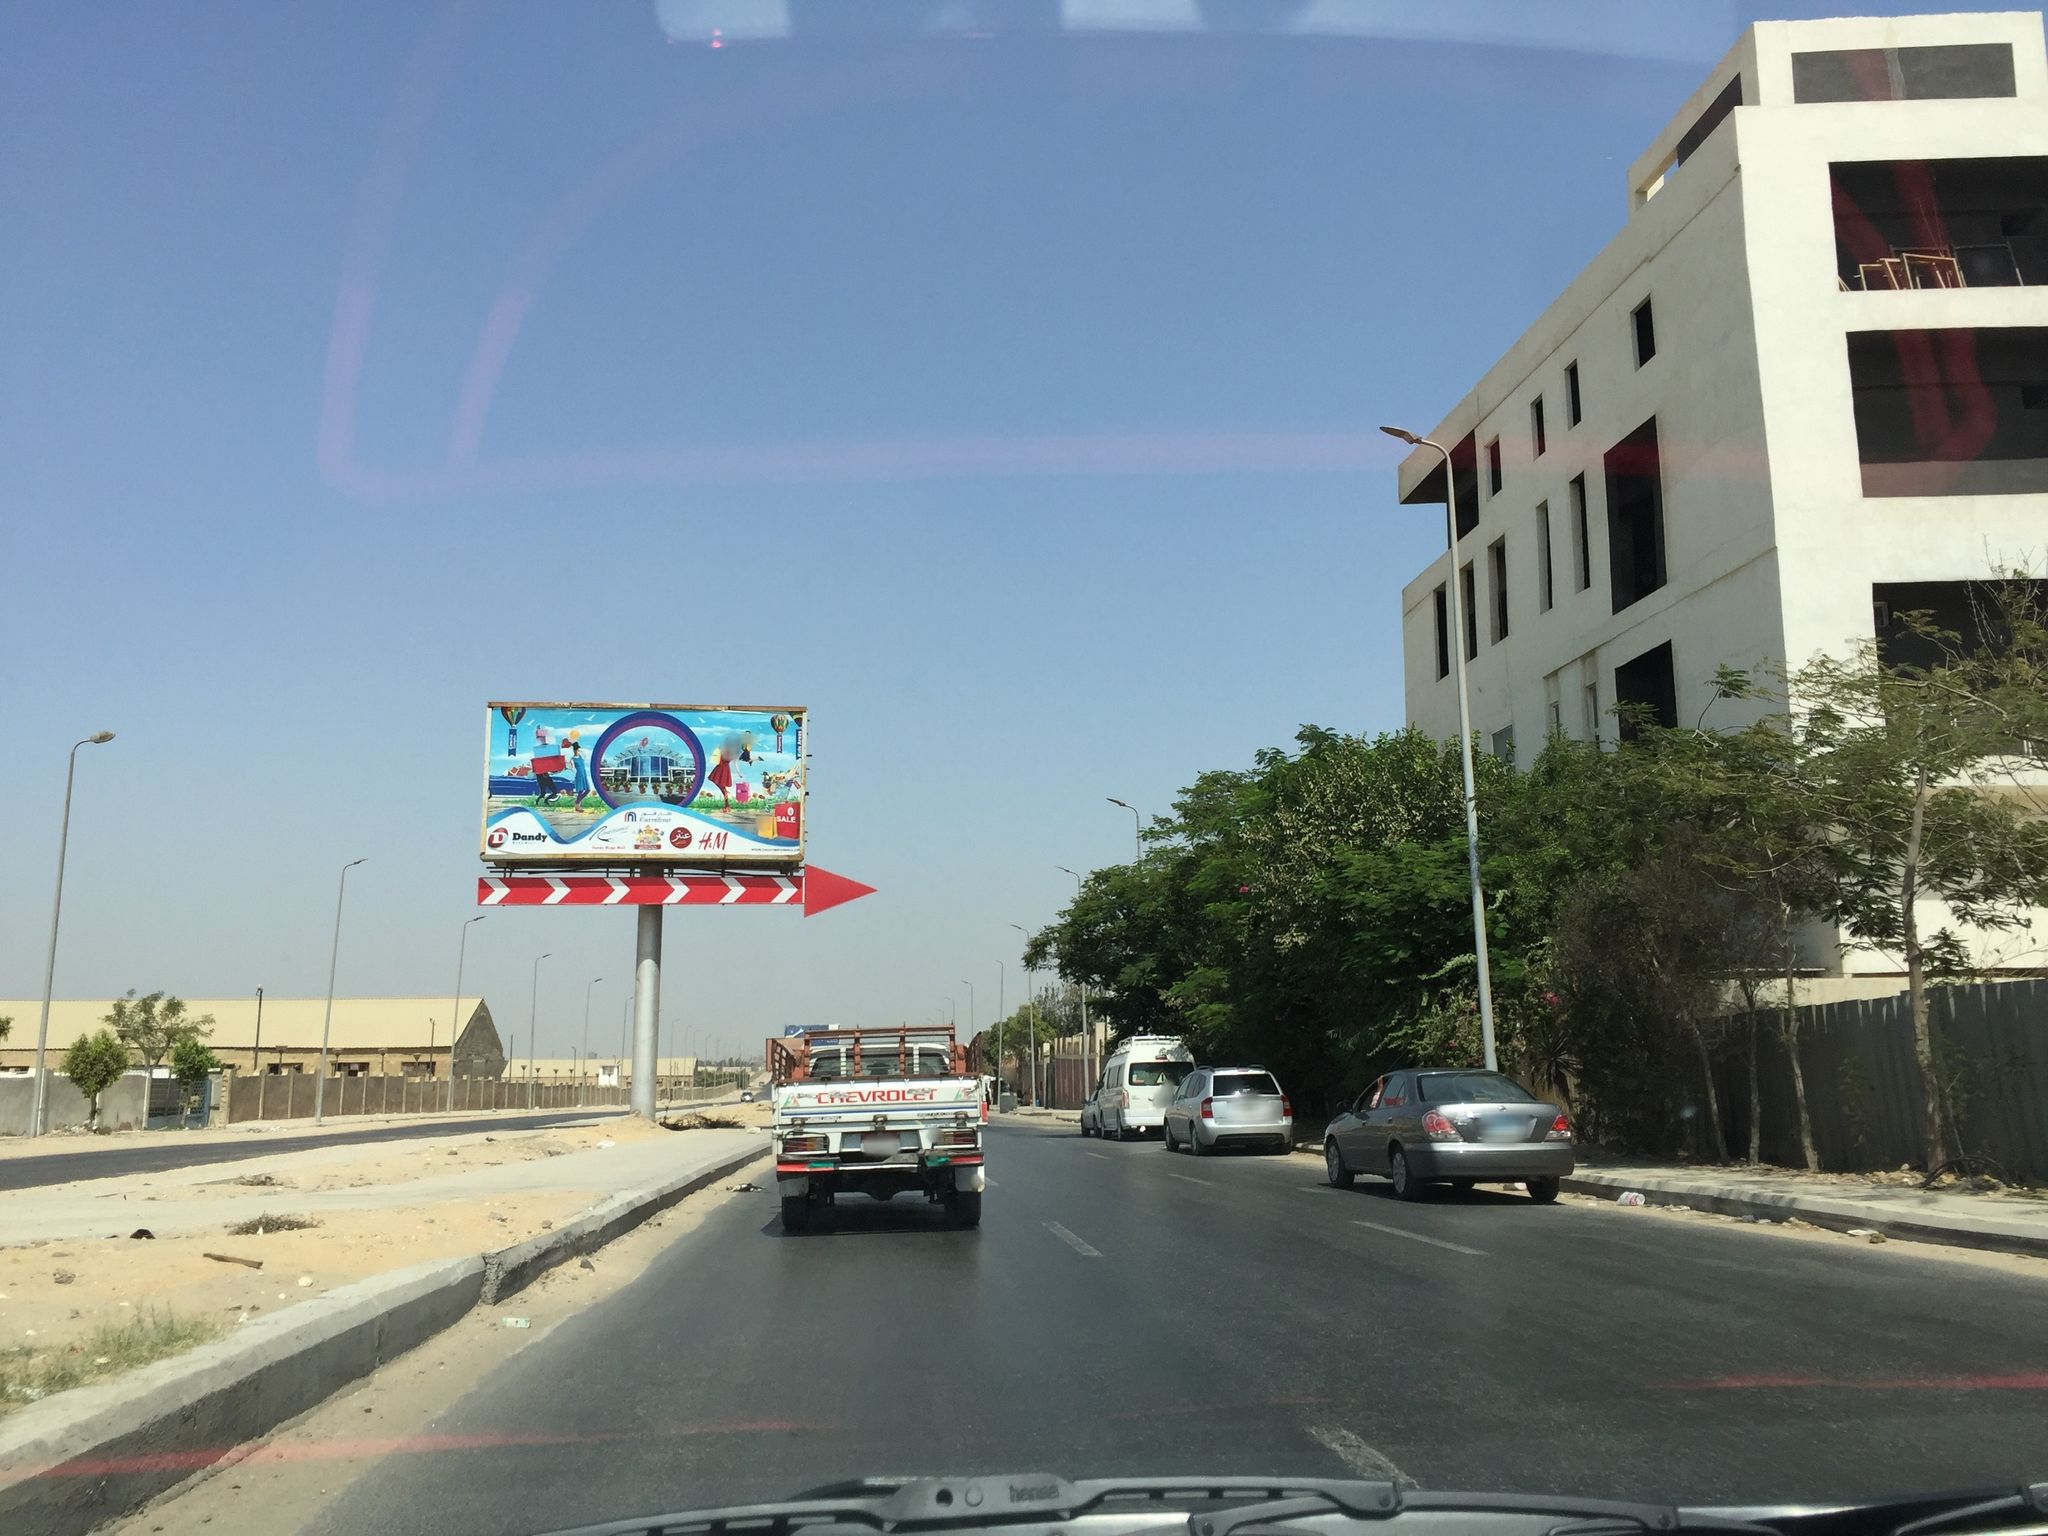car: (1322, 1066, 1579, 1199), (1161, 1062, 1293, 1155), (1093, 1034, 1198, 1142), (1079, 1089, 1103, 1136)
truck: (761, 1021, 992, 1226)
